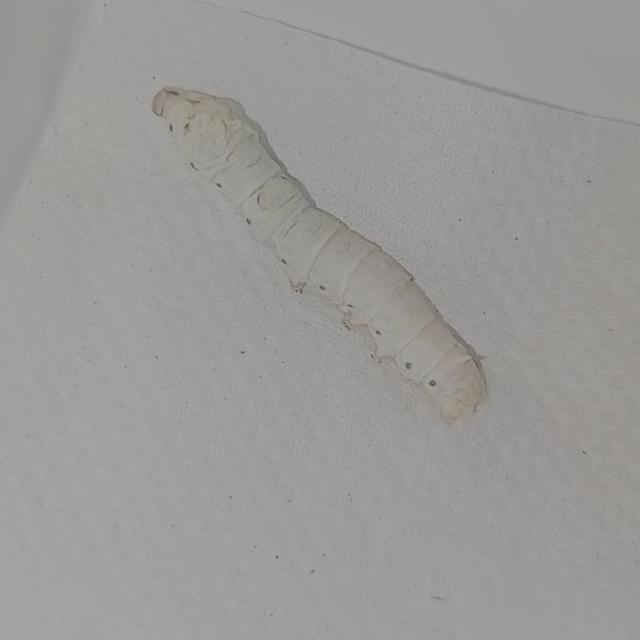Healthy: (145, 81, 493, 431)
